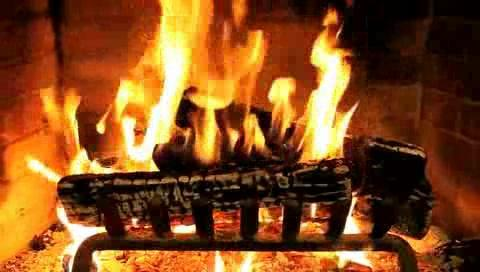fire: (100, 2, 356, 176)
